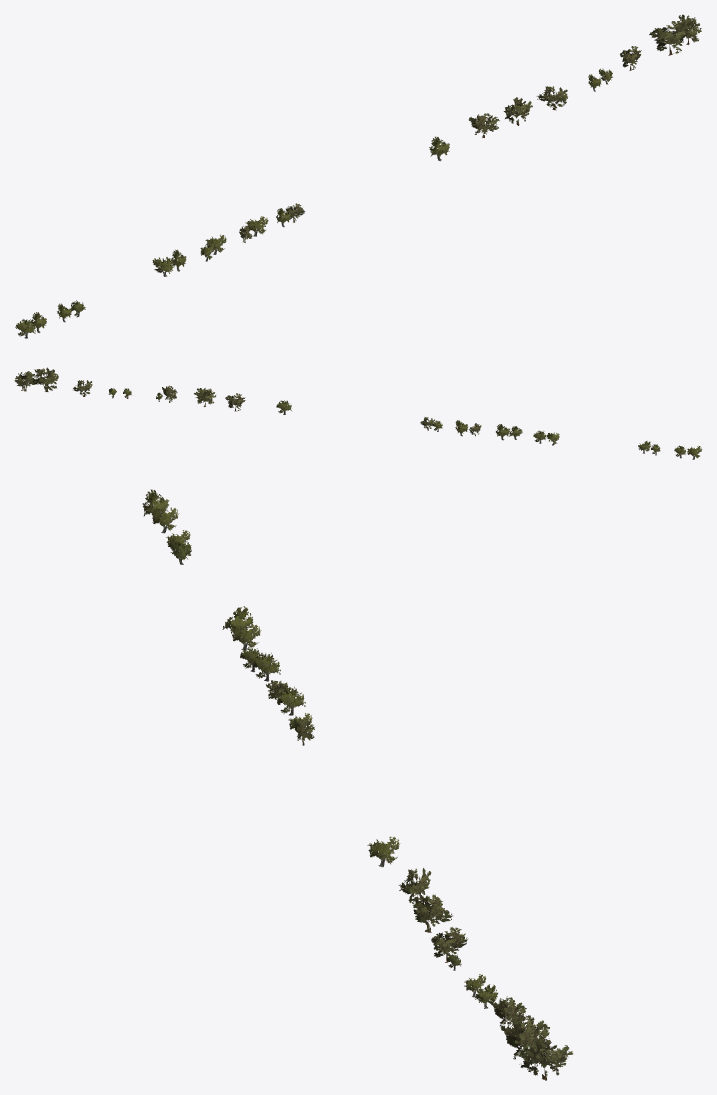
3 renders of one model, top to bottom at view 1: azimuth 30°, elevation 25°; view 2: azimuth 150°, elevation 25°; view 3: azimuth 270°, elevation 25°, orthographic. The views are drawn at different scales.
Visible parts, largest first — view 1: jacaranda_tree promenade foliage, island_tree_01 promenade foliage; view 2: jacaranda_tree promenade foliage, island_tree_01 promenade foliage, island_tree_01 promenade bark; view 3: jacaranda_tree promenade foliage, island_tree_01 promenade foliage.
Part boxes in pixels (x1,y1,x2,y2): jacaranda_tree promenade foliage: (239,14,701,242); island_tree_01 promenade foliage: (15,68,612,336); jacaranda_tree promenade foliage: (14,367,481,434); island_tree_01 promenade foliage: (109,388,702,458); island_tree_01 promenade bark: (112,394,699,459); jacaranda_tree promenade foliage: (266,680,573,1075); island_tree_01 promenade foliage: (142,489,498,1003).
Bounding box in the file's own units: 306 × 11.48 × 97.7.
Materials: 4 (4 with a texture image).
